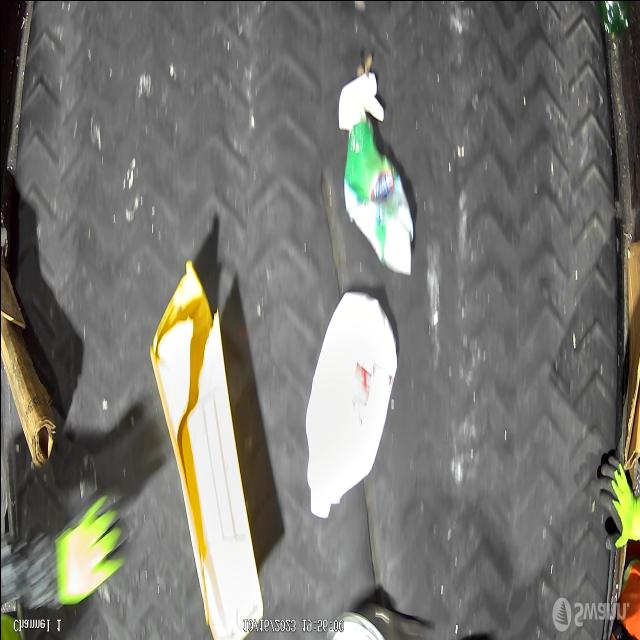milk_jug: (302, 282, 400, 520)
